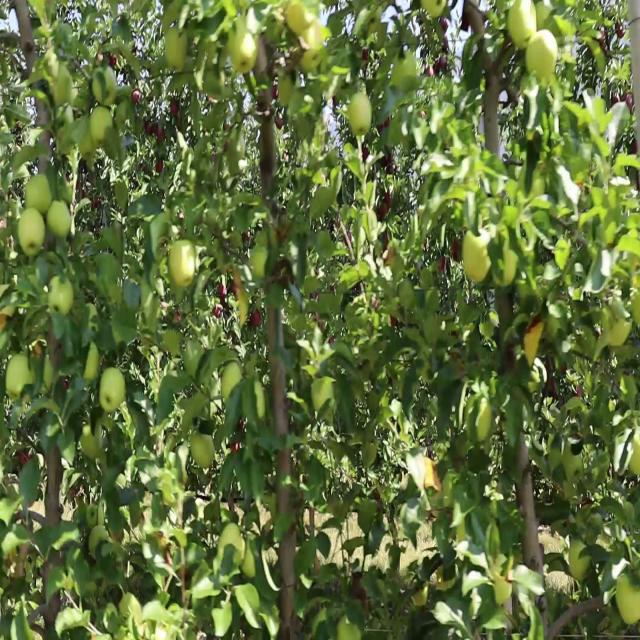apple: (229, 16, 259, 76), (462, 226, 492, 286), (525, 29, 559, 80), (505, 0, 538, 45), (21, 168, 53, 212), (5, 353, 35, 399), (162, 20, 187, 75), (616, 571, 640, 628), (47, 271, 74, 321), (18, 207, 44, 258), (169, 238, 196, 287), (218, 520, 244, 567), (100, 366, 124, 413), (246, 369, 267, 420), (92, 65, 118, 106), (349, 92, 372, 138), (469, 398, 492, 442), (46, 198, 71, 238), (190, 434, 215, 471), (90, 106, 112, 147), (568, 538, 588, 581), (80, 422, 103, 458), (81, 339, 100, 380), (222, 361, 241, 401), (629, 432, 640, 475), (419, 0, 447, 16), (79, 137, 96, 161)
